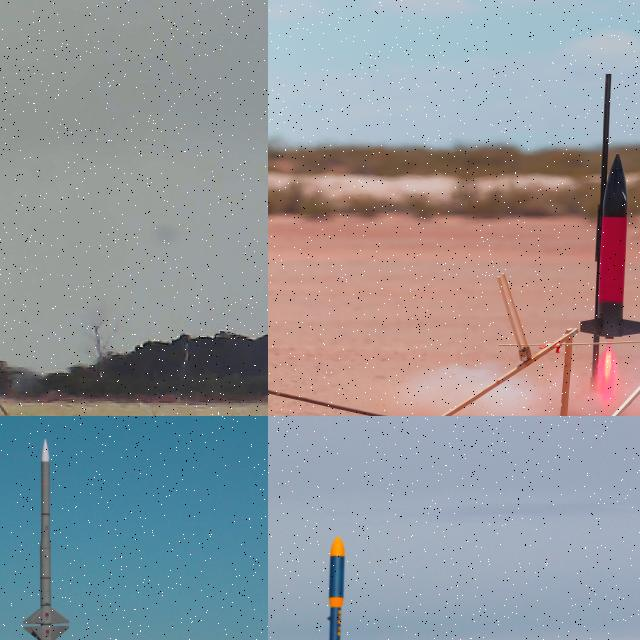Rocket: (578, 151, 640, 340), (21, 437, 70, 640), (303, 536, 365, 640)
